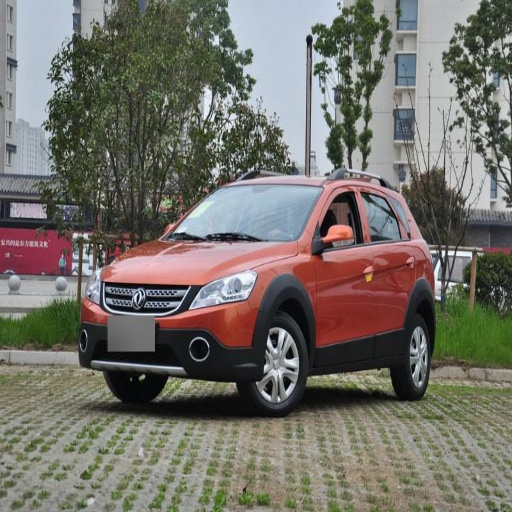front_bumper: (79, 282, 260, 381)
front_glass: (168, 184, 320, 243)
front_left_door: (313, 184, 375, 358)
